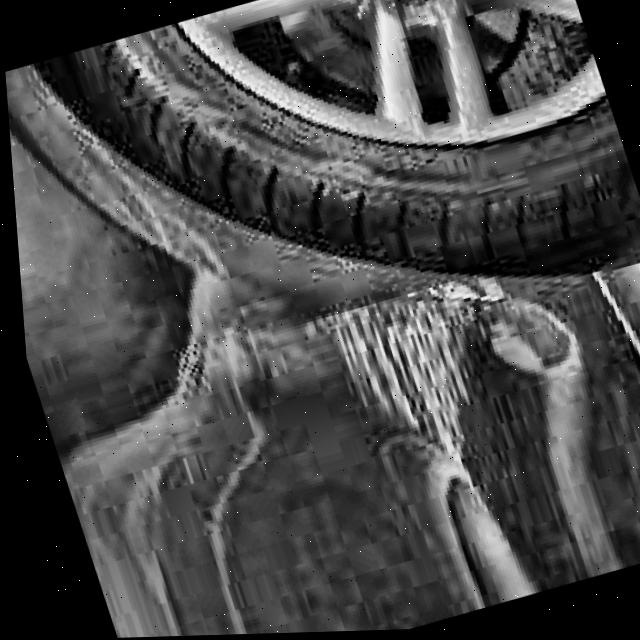door_scratch: (307, 250, 537, 432)
